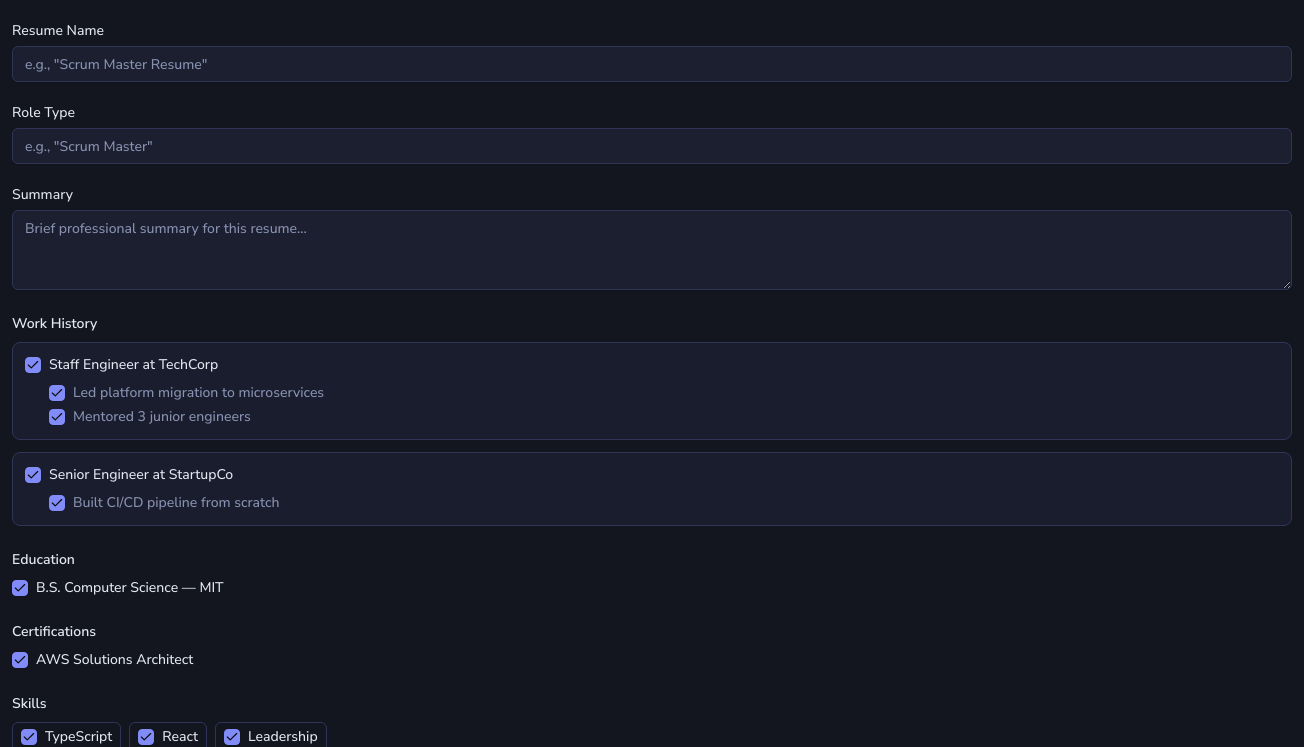
Test case: BaseResumeSetupStep › submission › shows error on failed POST
The image size is (1304, 747).
Type "Scrum Master Resume" into the field labelled "Resume Name".
click(652, 64); type("Scrum Master Resume")  # box x1=12 y1=46 x2=1292 y2=82
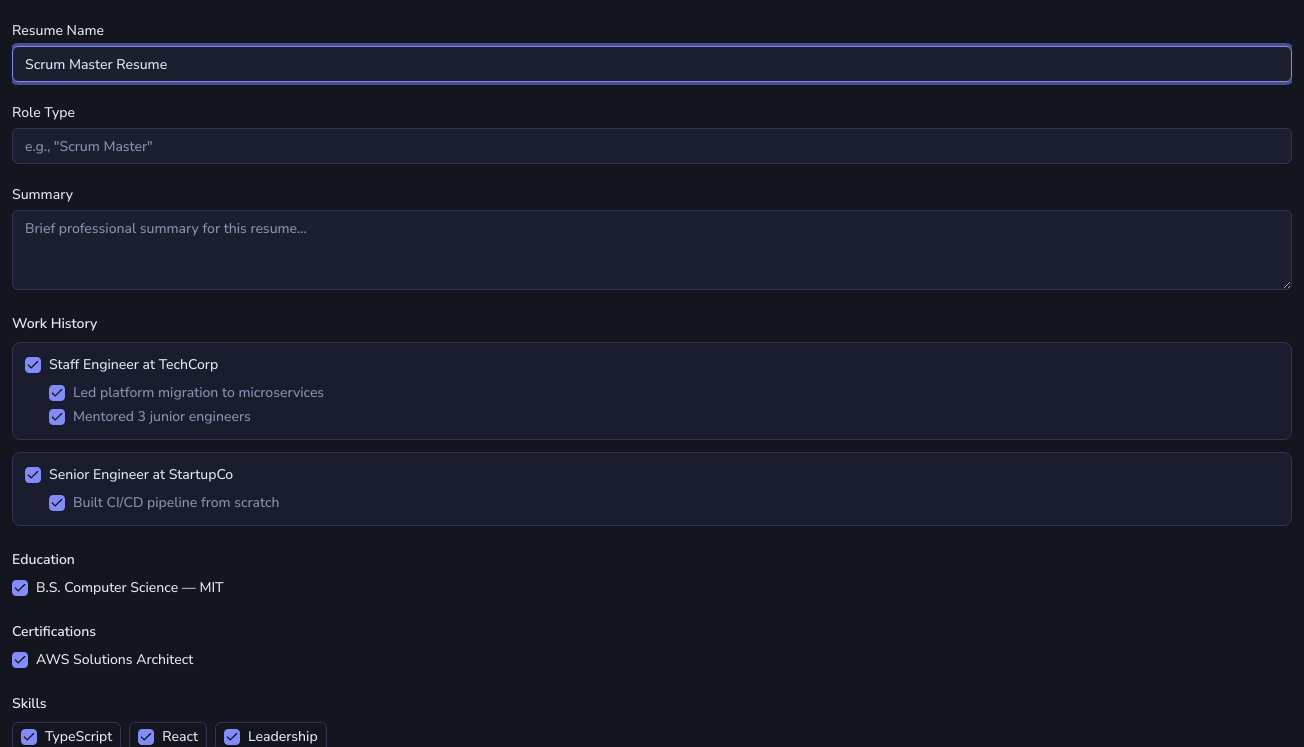
Type "Scrum Master" into the field labelled "Role Type".
click(652, 146); type("Scrum Master")  # box x1=12 y1=128 x2=1292 y2=164
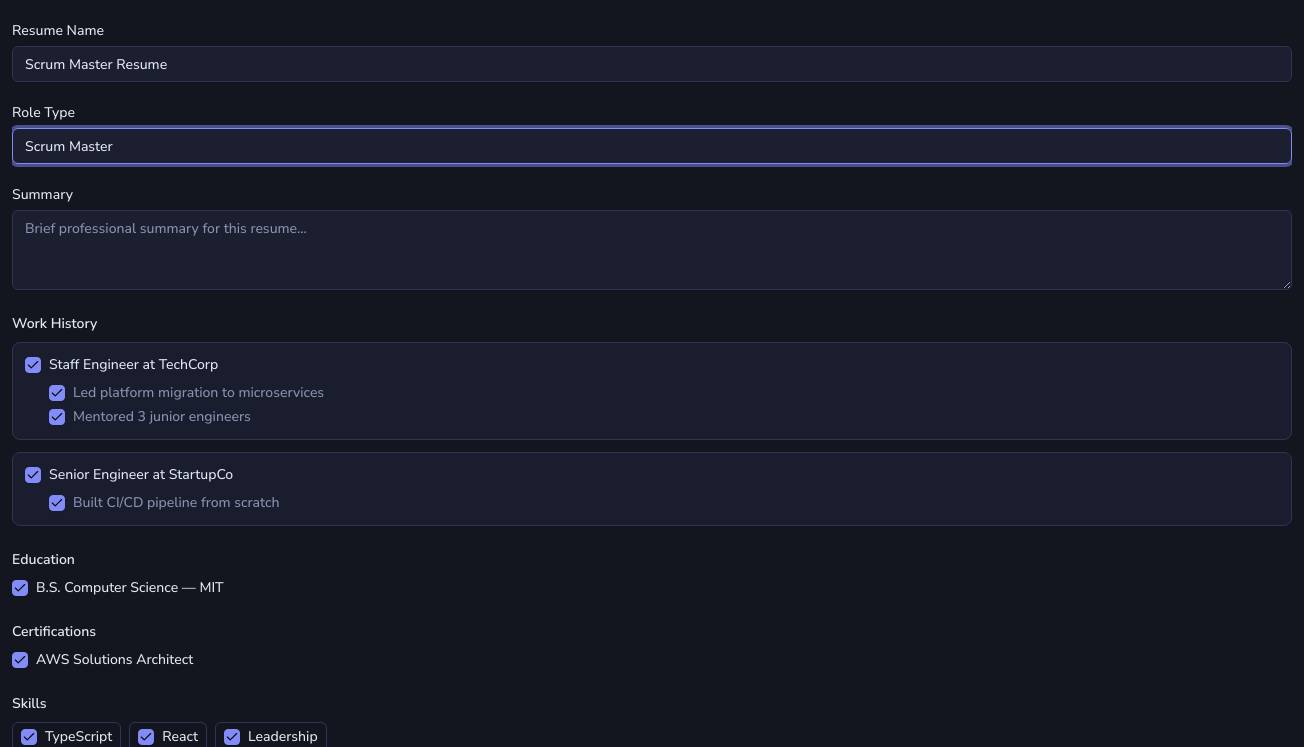
Type "Experienced agile leader with 8 years of experience" into the text box labelled "Summary".
click(652, 250); type("Experienced agile leader with 8 years of experience")  # box x1=12 y1=210 x2=1292 y2=290
(page scrolled)
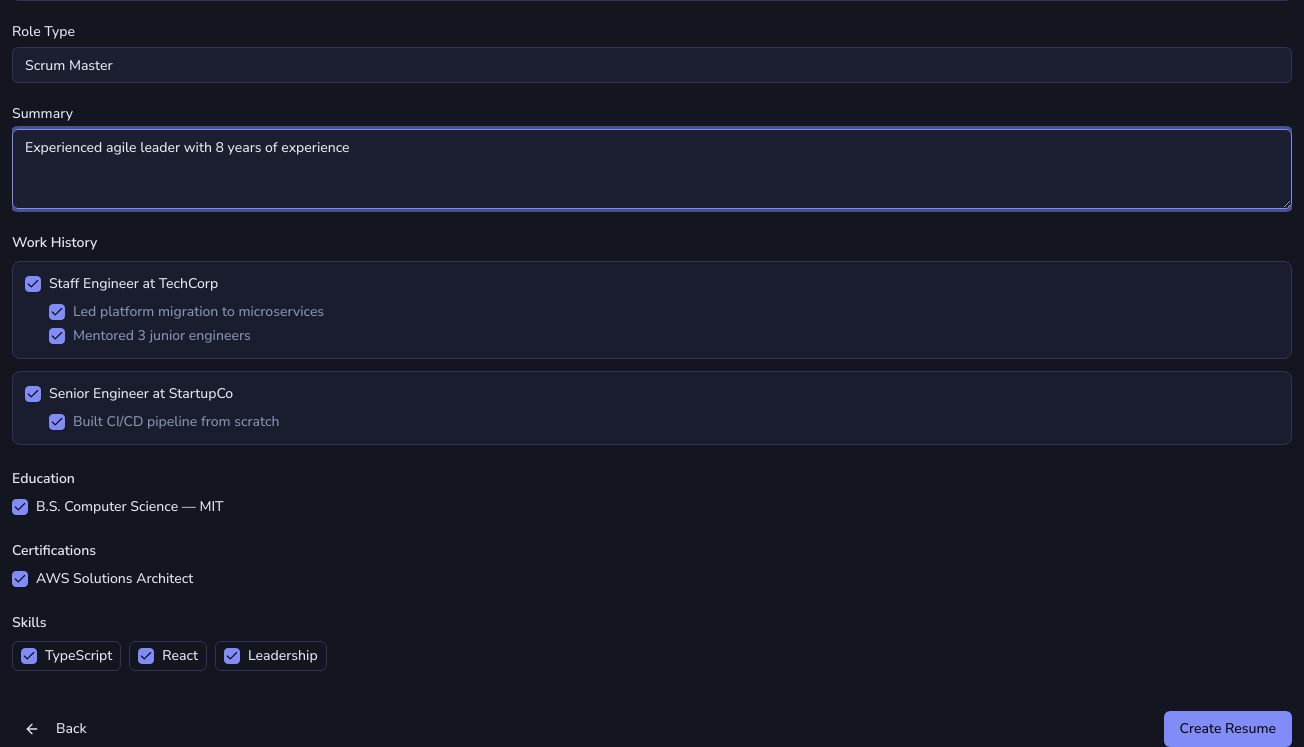
Click the button with test id "submit-button".
click(1228, 729)  # box x1=1164 y1=711 x2=1292 y2=746
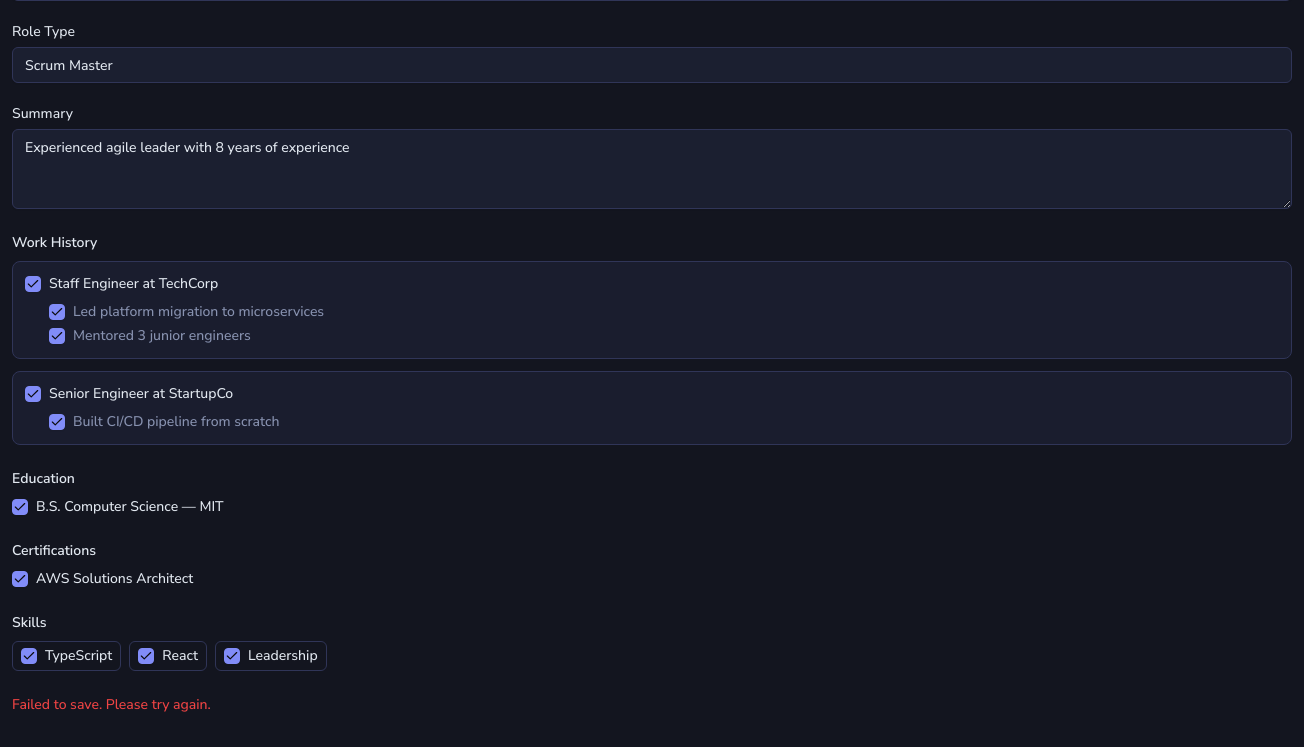
expect the text "Failed to save. Please try again." is shown: met, box x1=12 y1=695 x2=211 y2=714
